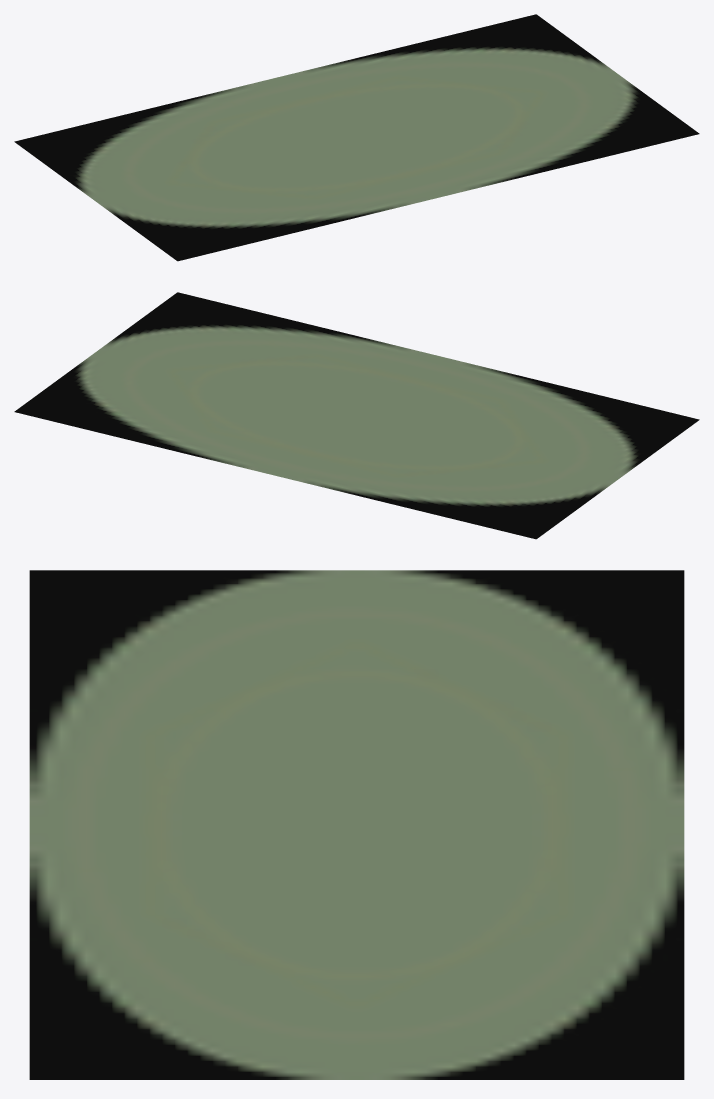
The model's file is SummoningArray.glb.
The picture shows the model from 3 angles, top to bottom: view 1: azimuth 30°, elevation 25°; view 2: azimuth 150°, elevation 25°; view 3: azimuth 270°, elevation 25°; orthographic projection. The views are drawn at different scales.
Visible parts, largest first — view 1: Visual; view 2: Visual; view 3: Visual.
Part boxes in pixels (bbox=[...]): Visual: bbox=[14, 14, 699, 261]; Visual: bbox=[14, 292, 699, 539]; Visual: bbox=[29, 570, 684, 1079].
Size of the model in its own units: 4.72 by 0.02 by 2.56.
Materials: 3 (2 with a texture image).
